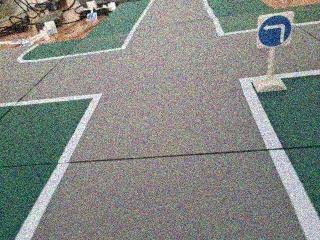left: (253, 8, 297, 53)
